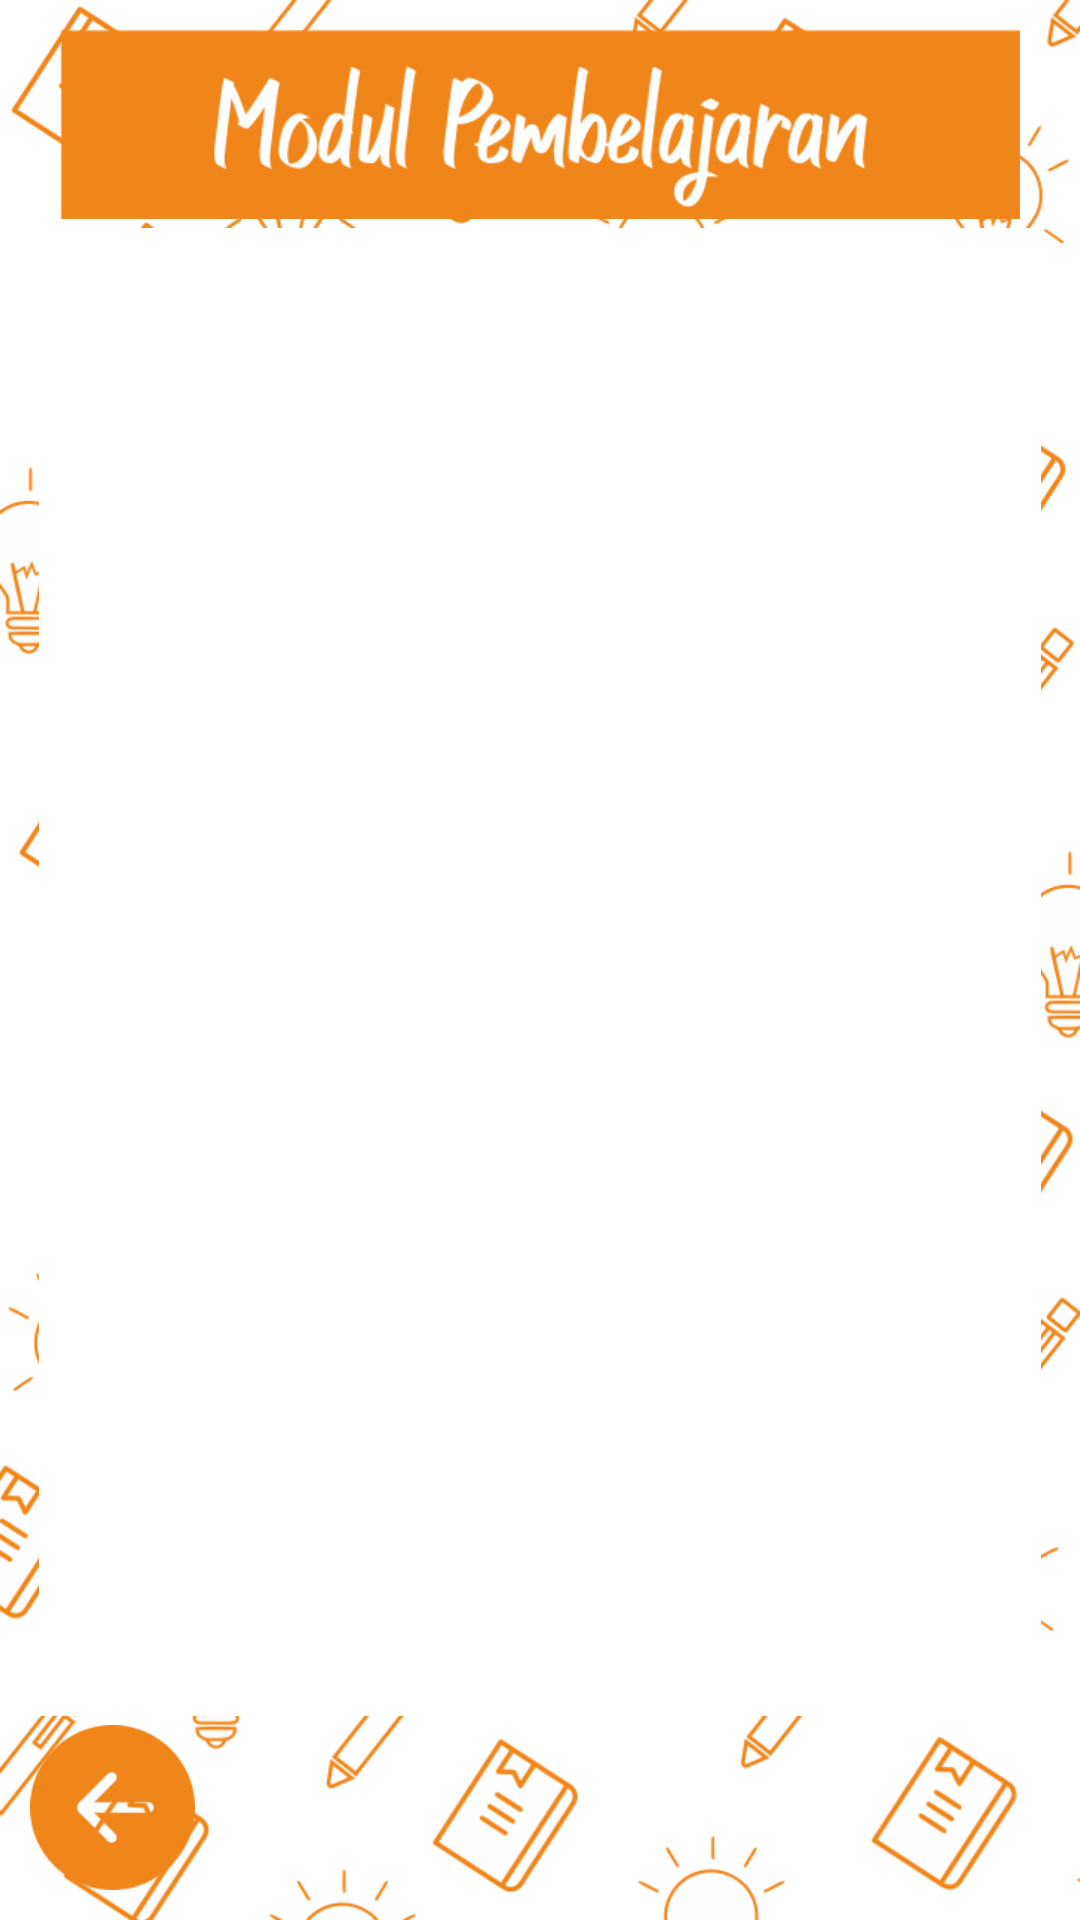

Named icons in this screenshot (1080 x 1920) and their bounding boxes, bbox=(x1, y1, x2, y2):
back: bbox=(30, 1725, 195, 1890)
